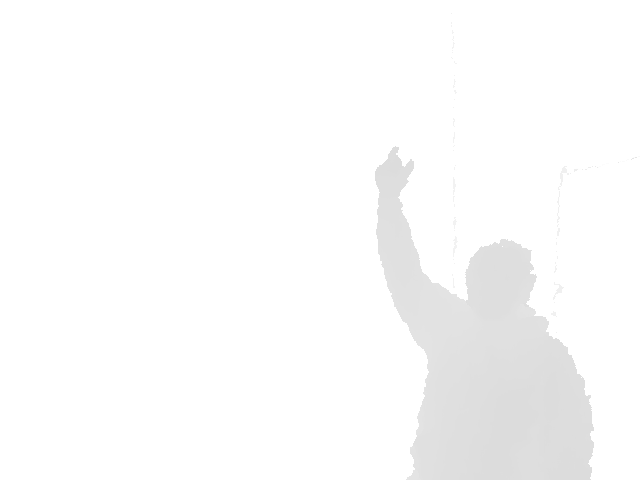hand: (374, 145, 415, 198)
head: (465, 239, 537, 308)
person: (374, 145, 597, 480)
